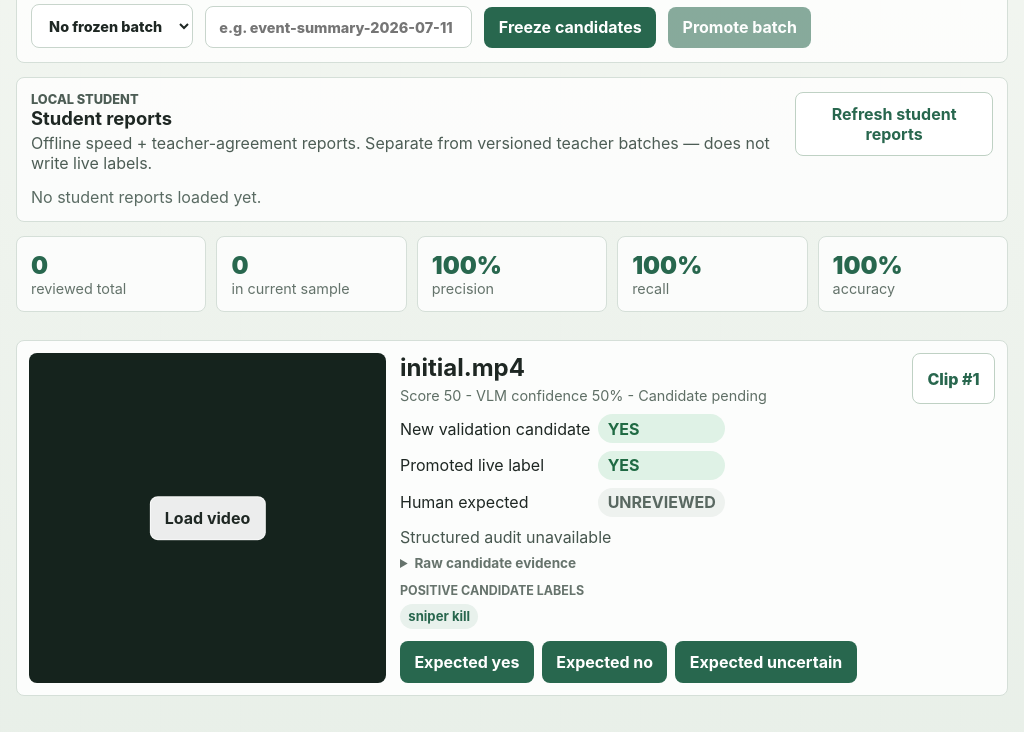
EvalDashboard request ordering › waits for a pending review before refreshing from the server
(page scrolled)
Check: the heading "initial.mp4" is shown, box left=400, top=353, right=525, bottom=382
Click the button "Expected yes": (467, 662) left=400, top=641, right=534, bottom=683
(page scrolled)
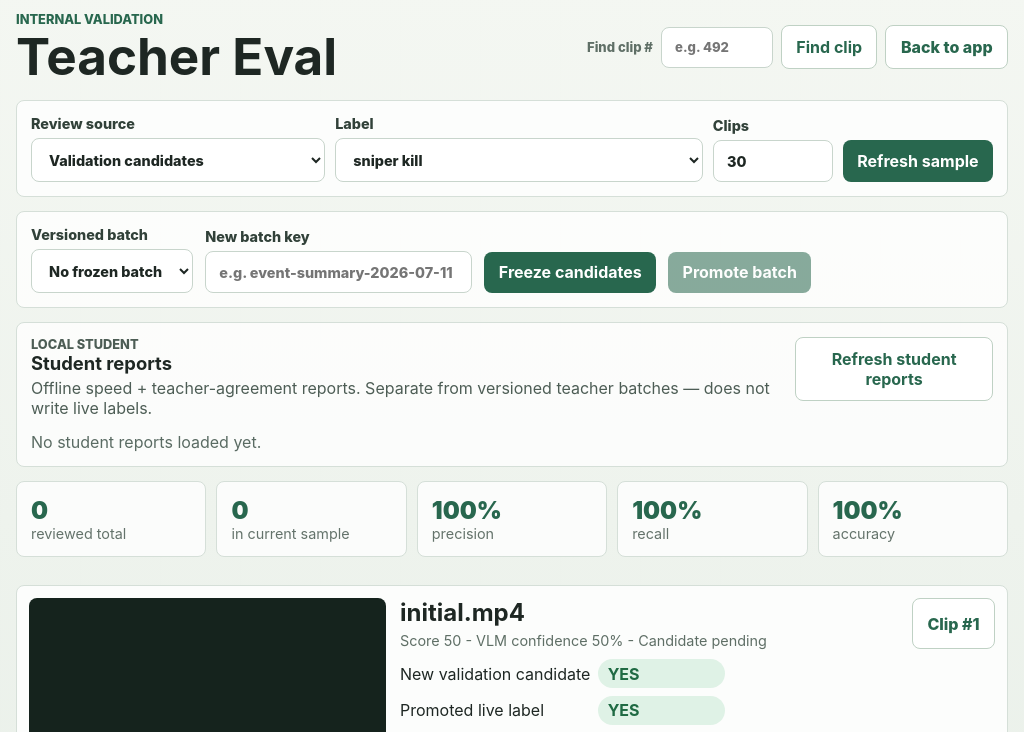
Click the button "Refresh sample": (918, 161) left=843, top=140, right=993, bottom=182
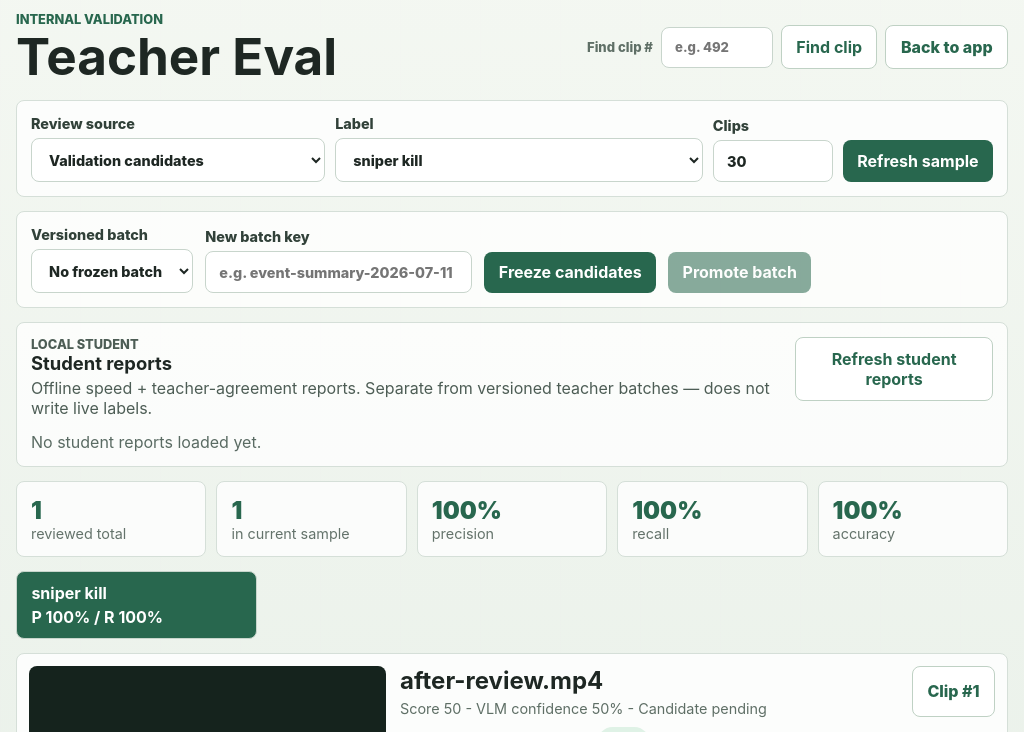
Check: the heading "after-review.mp4" is shown, box left=400, top=666, right=603, bottom=695
Check: the 1st text "1" is shown, box left=31, top=496, right=42, bottom=525
